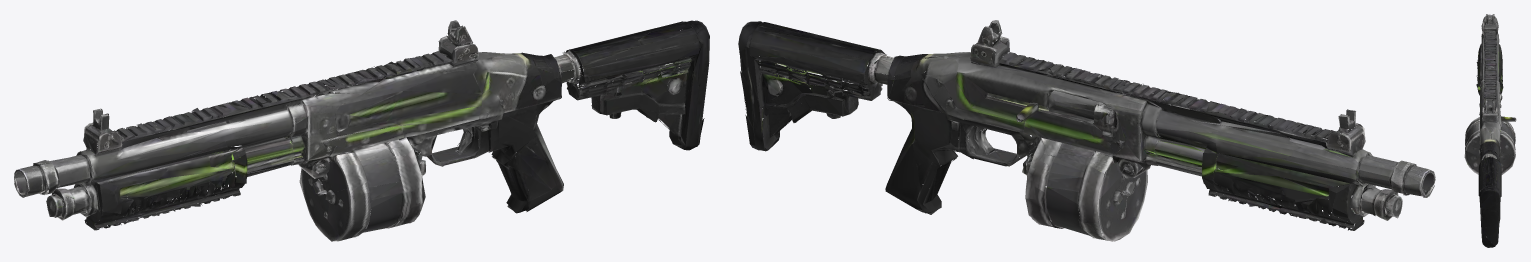
The model's file is gun_autosg_lo.glb.
The picture shows the model from 3 angles, left to right: view 1: azimuth 30°, elevation 25°; view 2: azimuth 150°, elevation 25°; view 3: azimuth 270°, elevation 25°; orthographic projection. The views are drawn at different scales.
Visible parts, largest first — view 1: Mesh_0; view 2: Mesh_0; view 3: Mesh_0.
Part boxes in pixels (<box>): Mesh_0: <box>14,20,709,241</box>; Mesh_0: <box>738,20,1435,241</box>; Mesh_0: <box>1464,14,1516,247</box>.
Bounding box in the file's own units: 1.9 × 0.5361 × 0.2511.
Materials: 1 (1 with a texture image).
